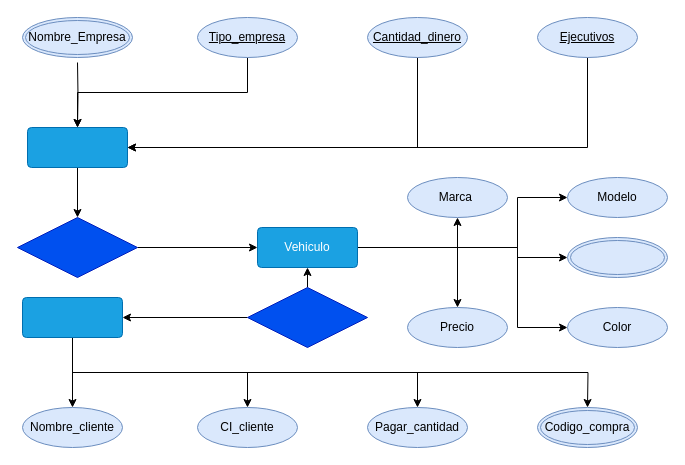
This 685x465 diagram has some shape labels left out. The centre of each missing label's shape, as x and y in pixels:
Detalles_compra: the point at 72,317
EMPRESA: the point at 77,147
necesita: the point at 77,247
Placa: the point at 617,257
se compra: the point at 307,317
